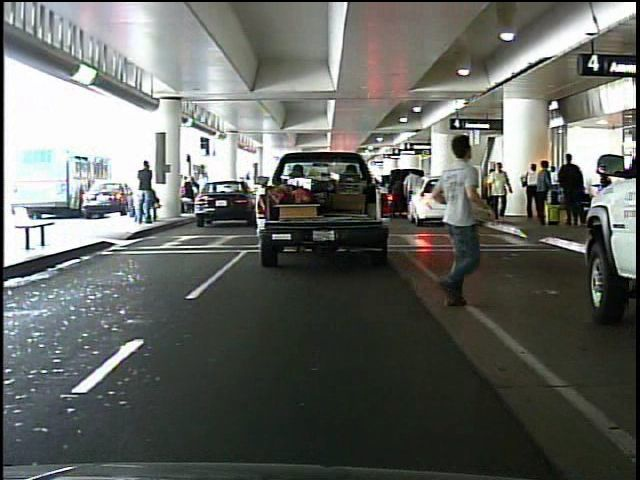person: (412, 119, 495, 324), (558, 143, 586, 229), (486, 157, 517, 228), (134, 158, 158, 225), (519, 156, 542, 222), (536, 158, 556, 225), (403, 166, 426, 192)
